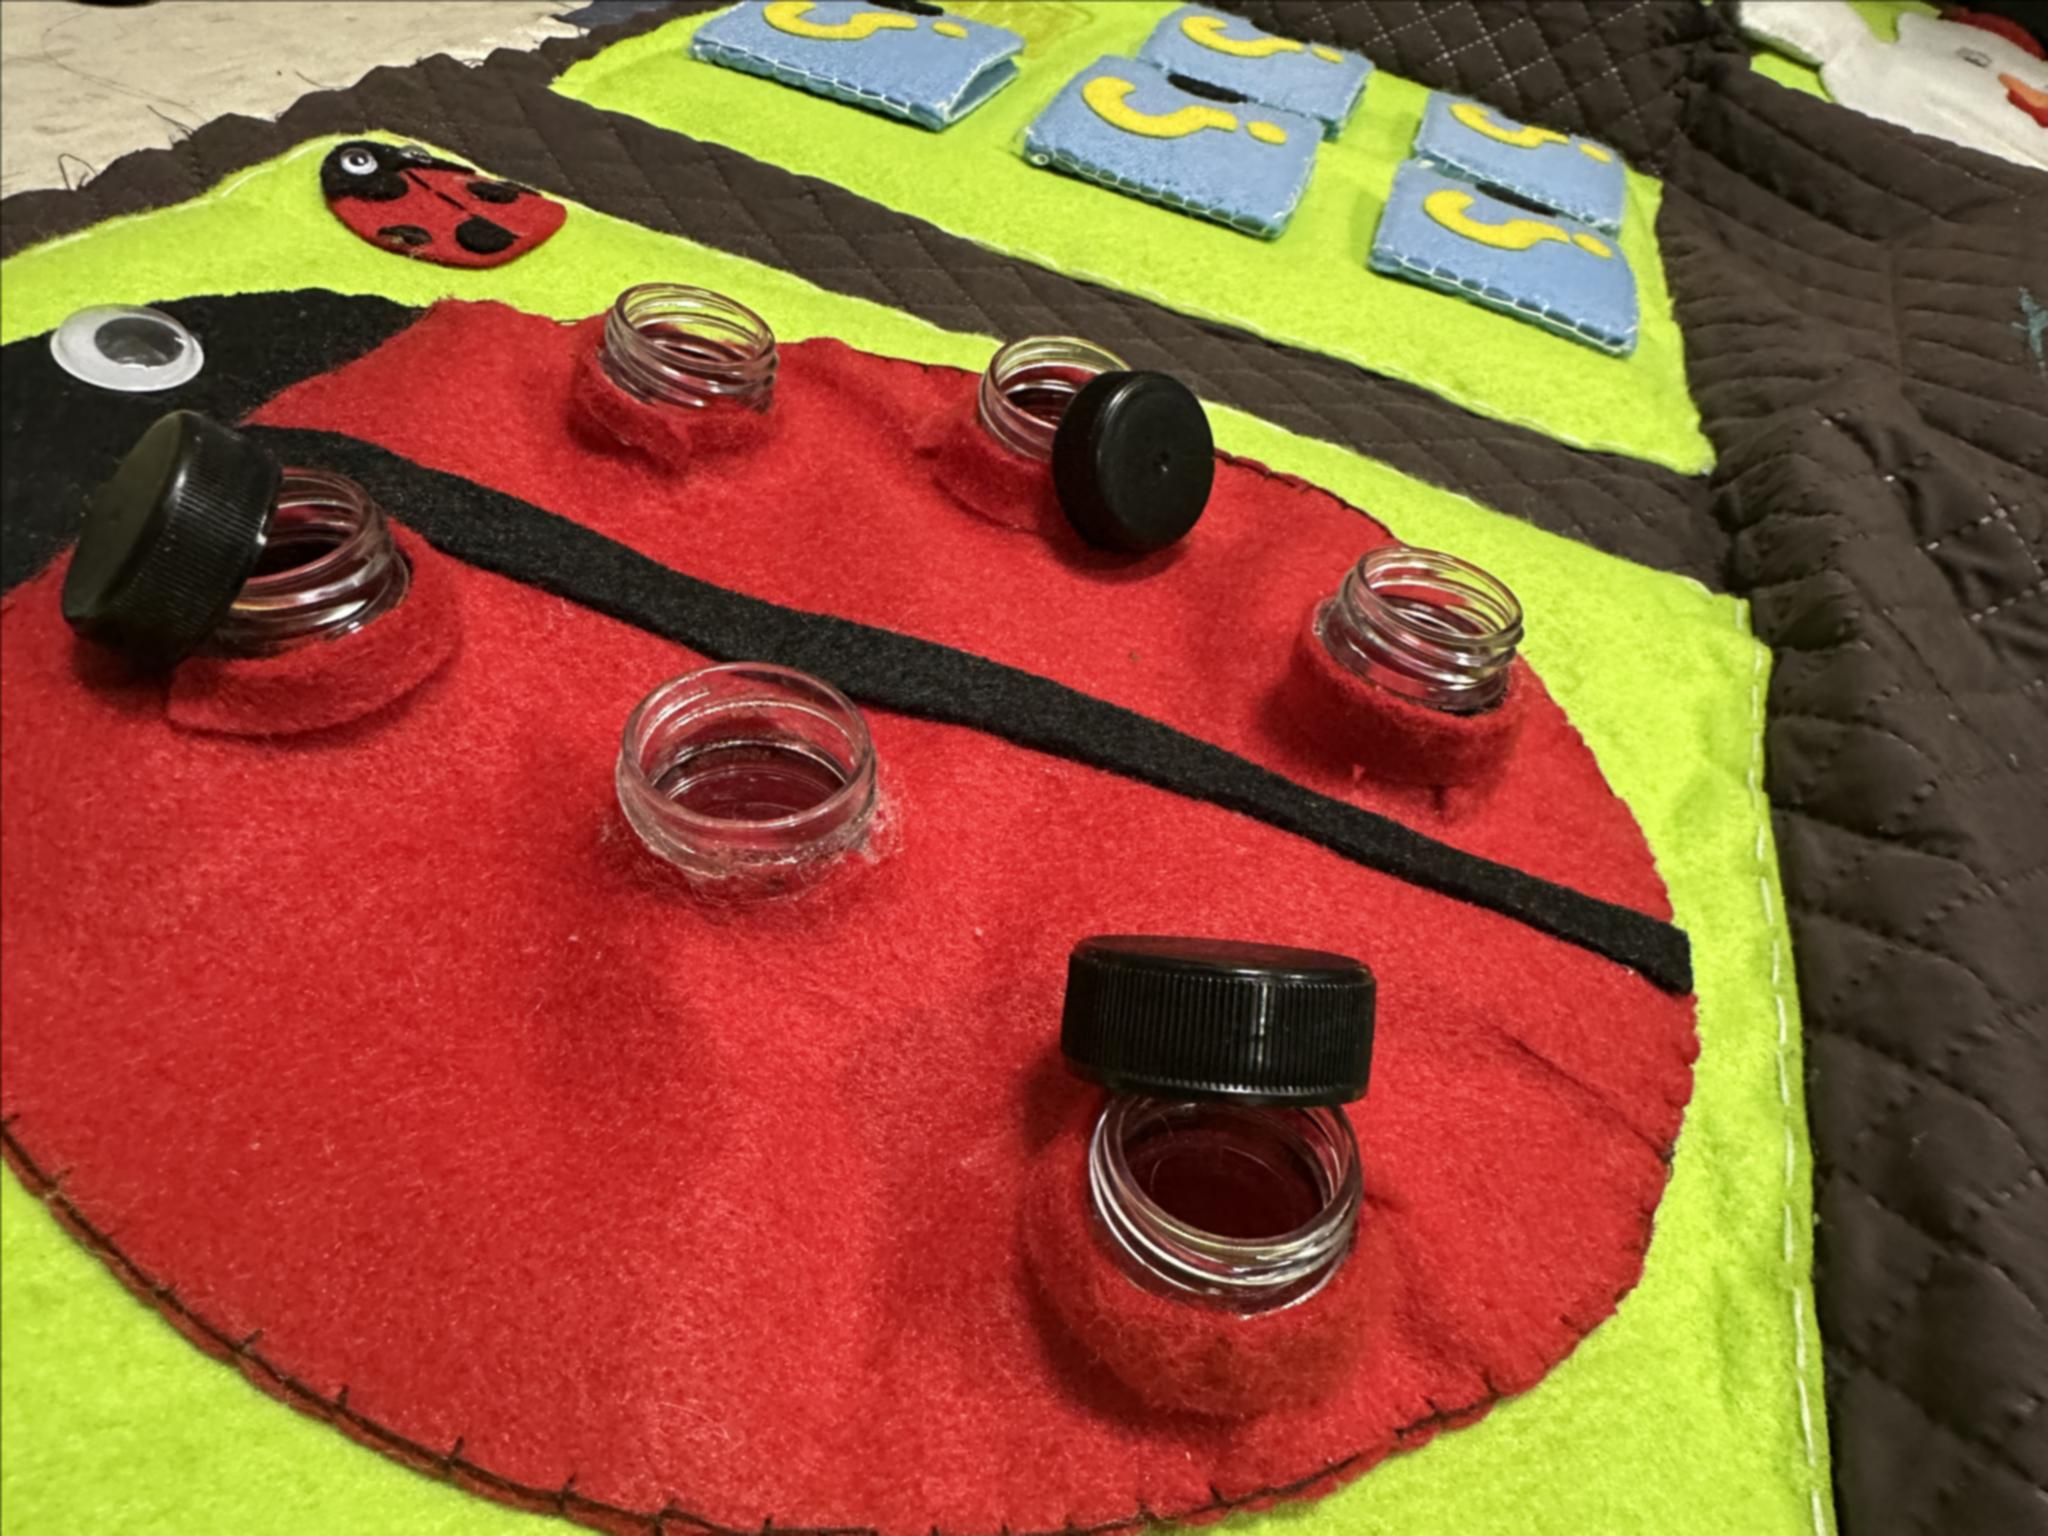cap_ng: (1003, 915, 1387, 1407), (48, 408, 435, 771), (942, 307, 1224, 592)
